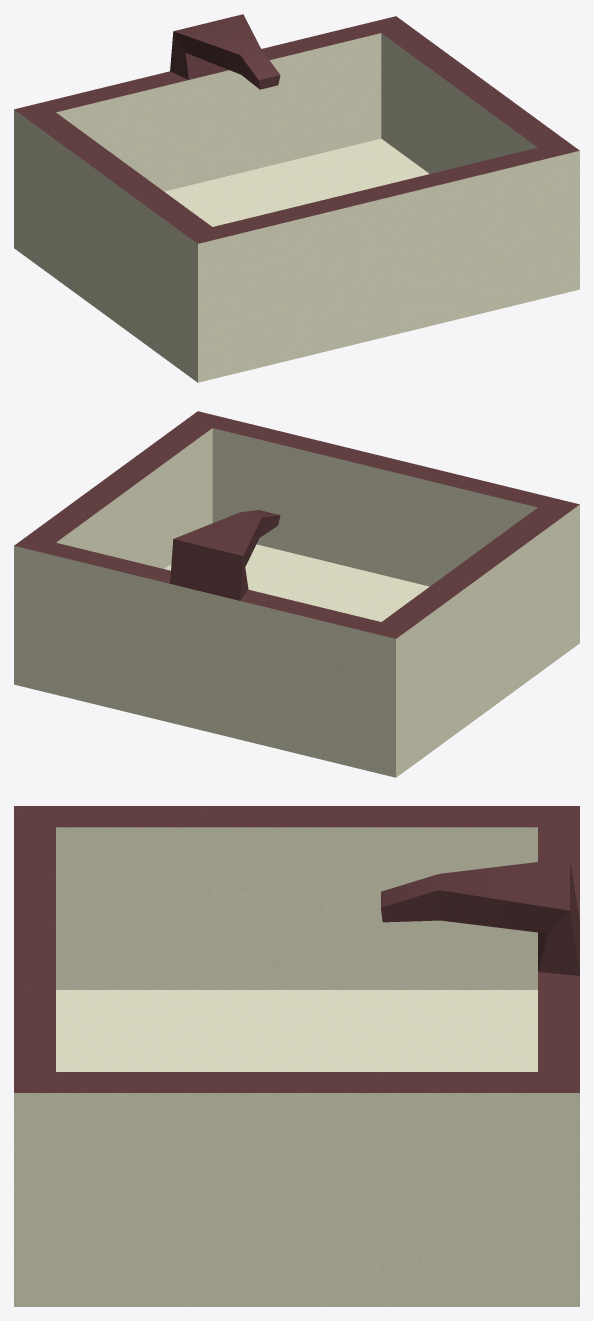
File: PR_SinkBasic.fbx
3 views of the same model, one above another, from view 1: azimuth 30°, elevation 25°; view 2: azimuth 150°, elevation 25°; view 3: azimuth 270°, elevation 25° (orthographic). The views are drawn at different scales.
Parts seen in each view (by area): view 1: Sink; view 2: Sink; view 3: Sink.
Part boxes in pixels (left/top/right/bottom): Sink: left=14, top=14, right=579, bottom=382; Sink: left=14, top=411, right=579, bottom=777; Sink: left=14, top=806, right=579, bottom=1306.
Size of the model in its own units: 57.6 by 26.32 by 48.
